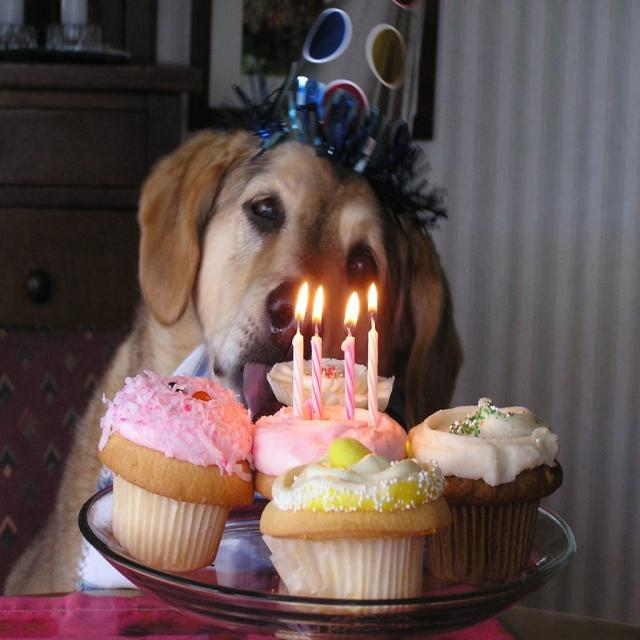Muffin: (253, 432, 456, 612), (98, 371, 258, 570), (404, 395, 566, 584), (244, 398, 409, 496), (267, 353, 396, 417)
